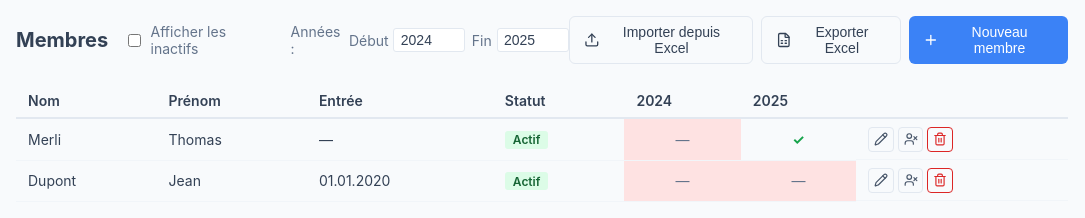
it: Plage d'années configurable › modifier le champ Fin puis sortir du champ (blur) sauvegarde la nouvelle plage et met à jour les colonnes
Check: the text "Merli" is shown, box [16,118,156,160]
Replace the text in the field labelled "Fin" with "2026": (532, 40) [496,28,568,52]
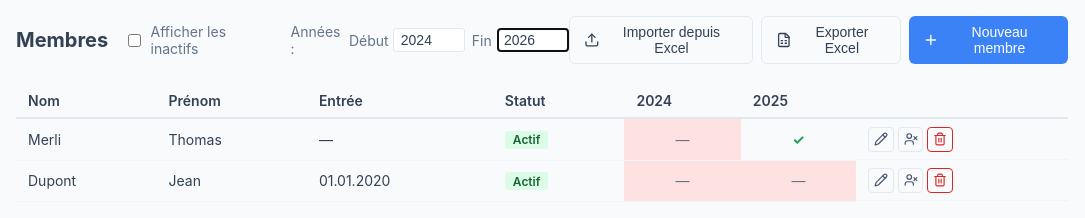
Press Tab
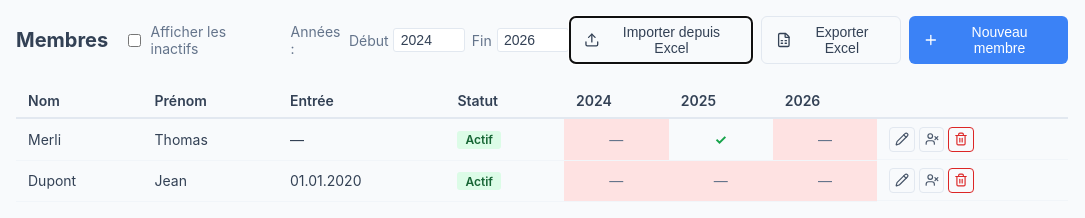
Check: the column heading "2026" is shown, box [773,84,877,118]
